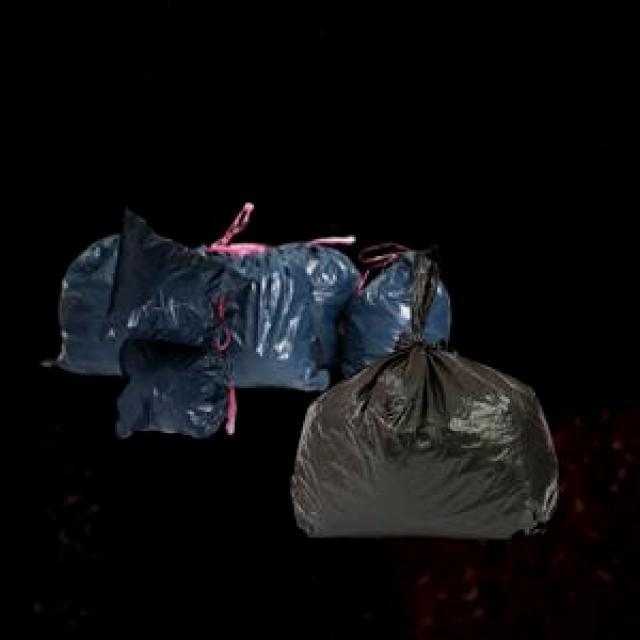Trashbag: (292, 347, 562, 543), (107, 204, 245, 354), (111, 338, 245, 452), (224, 251, 330, 394), (346, 252, 460, 376), (50, 232, 131, 377)
